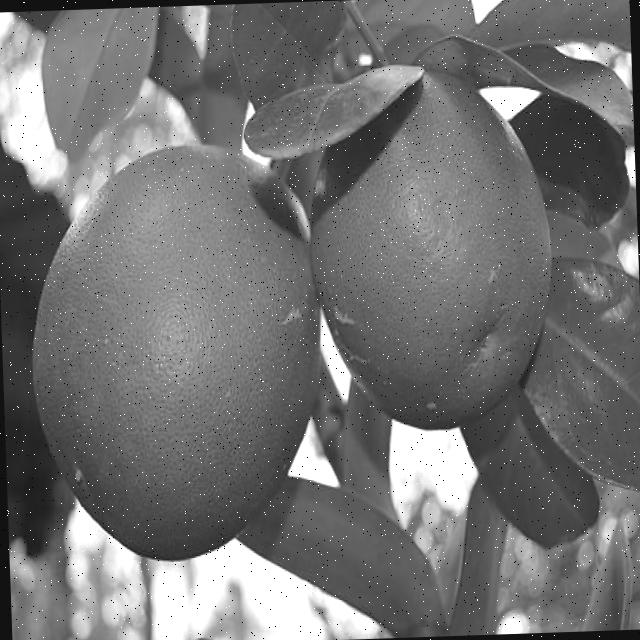Unripe: (20, 131, 326, 568), (304, 61, 555, 436)
